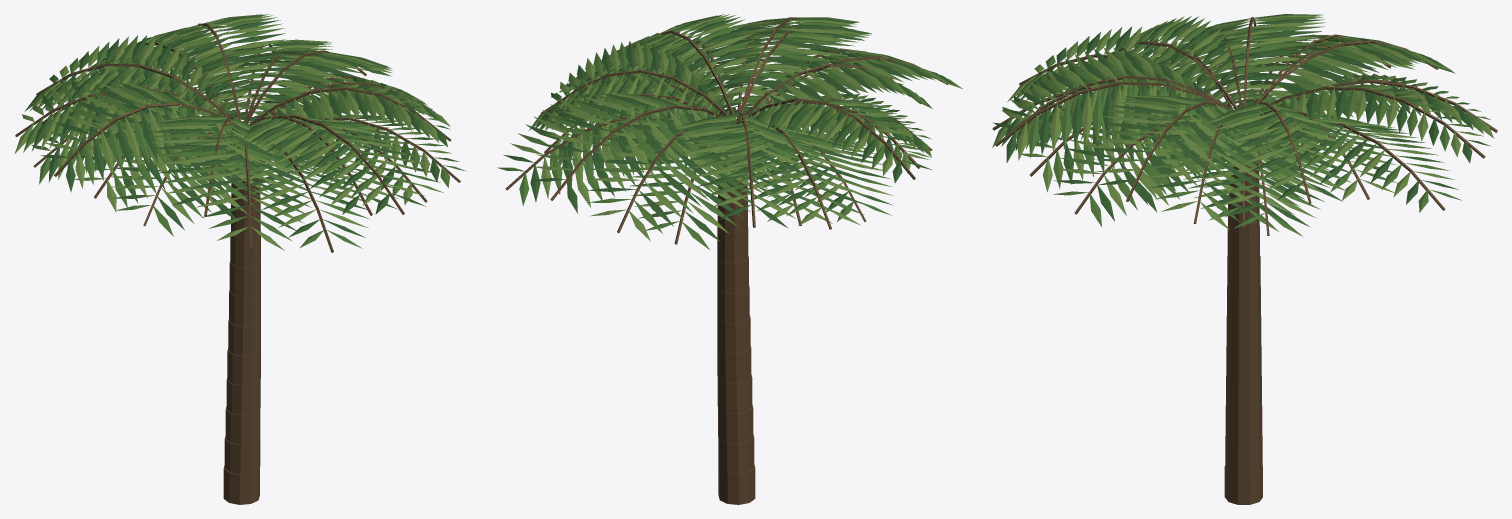
The model's file is nu-palm-medium.glb.
3 views of the same model, side by side, from view 1: azimuth 30°, elevation 25°; view 2: azimuth 150°, elevation 25°; view 3: azimuth 270°, elevation 25° (orthographic). The views are drawn at different scales.
Parts seen in each view (by area): view 1: PalmLeaflets, PalmTrunkAndRachis; view 2: PalmLeaflets, PalmTrunkAndRachis; view 3: PalmLeaflets, PalmTrunkAndRachis.
Part boxes in pixels (x1,y1,x2,y2): PalmLeaflets: [14, 14, 465, 250]; PalmTrunkAndRachis: [15, 23, 460, 504]; PalmLeaflets: [497, 14, 962, 249]; PalmTrunkAndRachis: [505, 17, 947, 504]; PalmLeaflets: [992, 14, 1493, 236]; PalmTrunkAndRachis: [992, 17, 1497, 504].
Bounding box in the file's own units: 3.52 × 3.81 × 4.1.
